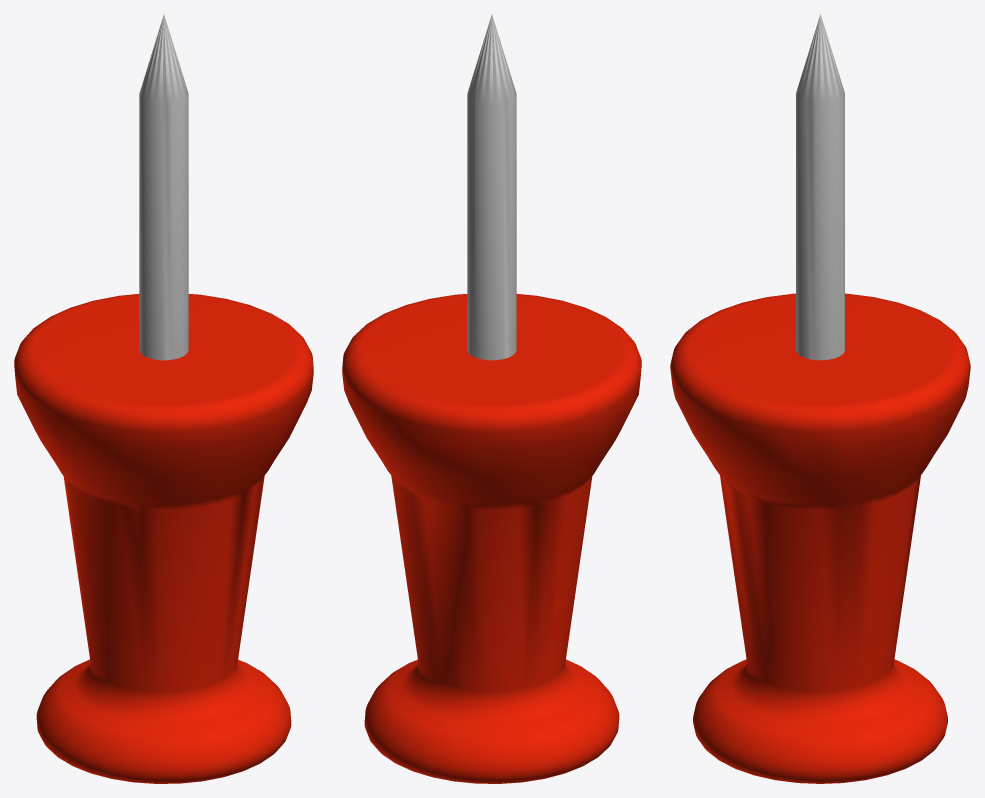
Rendered from pin2.fbx.
3 renders of one model, left to right at view 1: azimuth 30°, elevation 25°; view 2: azimuth 150°, elevation 25°; view 3: azimuth 270°, elevation 25°, orthographic.
Visible parts, largest first — view 1: Circle, Circle001; view 2: Circle, Circle001; view 3: Circle, Circle001.
Boxes of the visible parts, box(x1,y1,x2,y2) form: Circle: box(14, 294, 313, 783); Circle001: box(139, 14, 188, 360); Circle: box(342, 294, 641, 783); Circle001: box(467, 14, 516, 360); Circle: box(670, 293, 970, 783); Circle001: box(796, 14, 844, 360).
Size of the model in its own units: 2.3 by 6.09 by 2.3.
